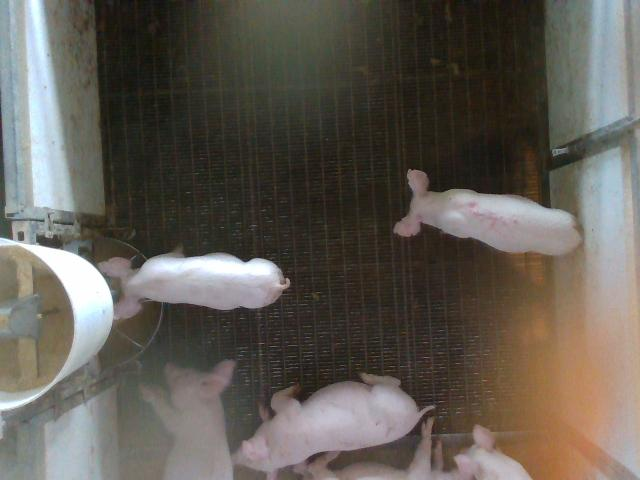pig-5: (395, 170, 582, 254)
